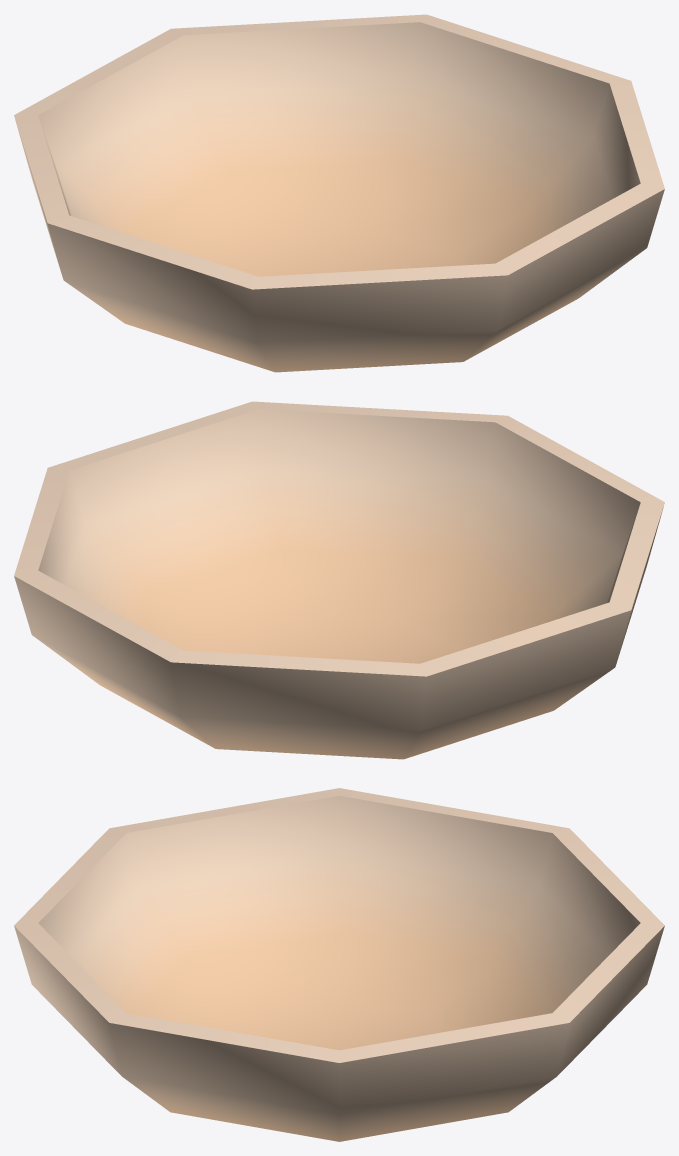
File: Dish4.fbx
3 views of the same model, one above another, from view 1: azimuth 30°, elevation 25°; view 2: azimuth 150°, elevation 25°; view 3: azimuth 270°, elevation 25° (orthographic). The views are drawn at different scales.
Visible parts, largest first — view 1: Dish4; view 2: Dish4; view 3: Dish4.
Boxes of the visible parts, left/top/right/bottom form: Dish4: left=14, top=14, right=664, bottom=372; Dish4: left=14, top=401, right=664, bottom=759; Dish4: left=14, top=788, right=664, bottom=1141.
Bounding box in the file's own units: 65.71 × 16.65 × 65.71.
